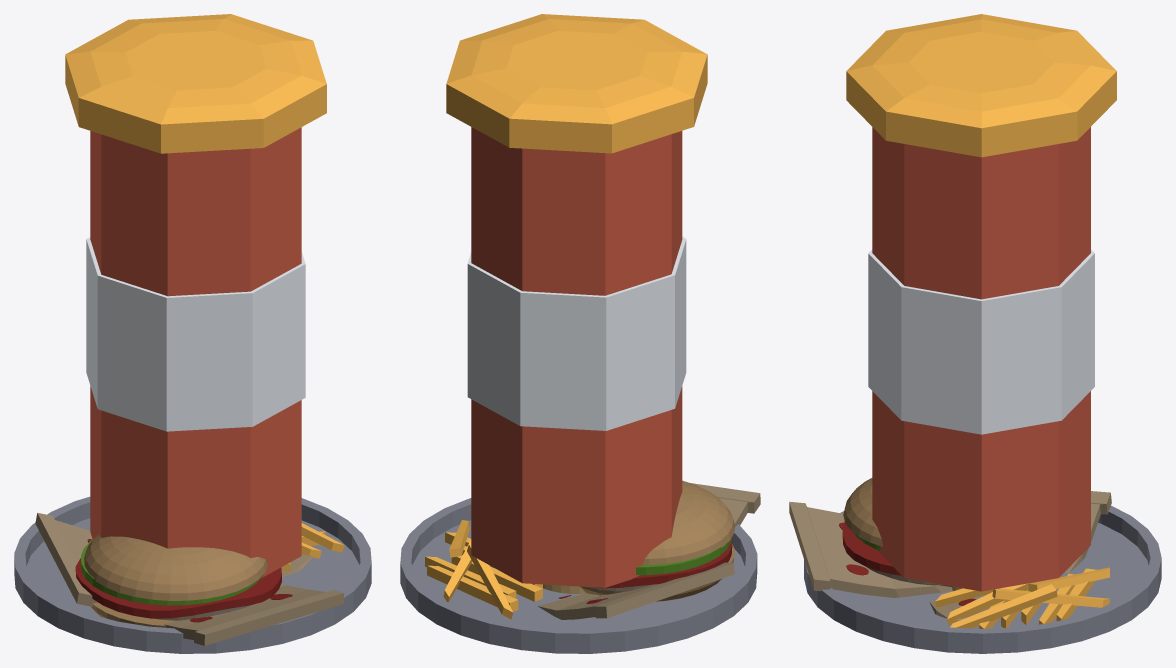
The model's file is items.fbx.
The picture shows the model from 3 angles, left to right: view 1: azimuth 30°, elevation 25°; view 2: azimuth 150°, elevation 25°; view 3: azimuth 270°, elevation 25°; orthographic projection.
Visible parts, largest first — view 1: Icosphere, hamburger, pizza; view 2: Icosphere, hamburger, pizza; view 3: Icosphere, hamburger, pizza.
Boxes of the visible parts, x1=… form: Icosphere: x1=65, y1=14, x2=326, y2=577; hamburger: x1=14, y1=496, x2=371, y2=653; pizza: x1=35, y1=512, x2=343, y2=645; Icosphere: x1=446, y1=14, x2=707, y2=587; hamburger: x1=400, y1=480, x2=757, y2=653; pizza: x1=537, y1=483, x2=760, y2=619; Icosphere: x1=846, y1=14, x2=1116, y2=591; hamburger: x1=804, y1=478, x2=1161, y2=653; pizza: x1=789, y1=491, x2=1111, y2=619.
Size of the model in its own units: 200 by 329 by 208.
